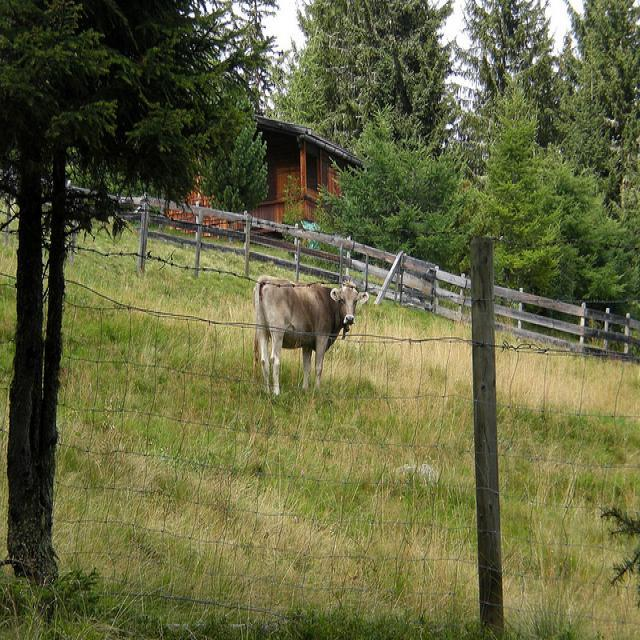cow: (249, 271, 367, 399)
